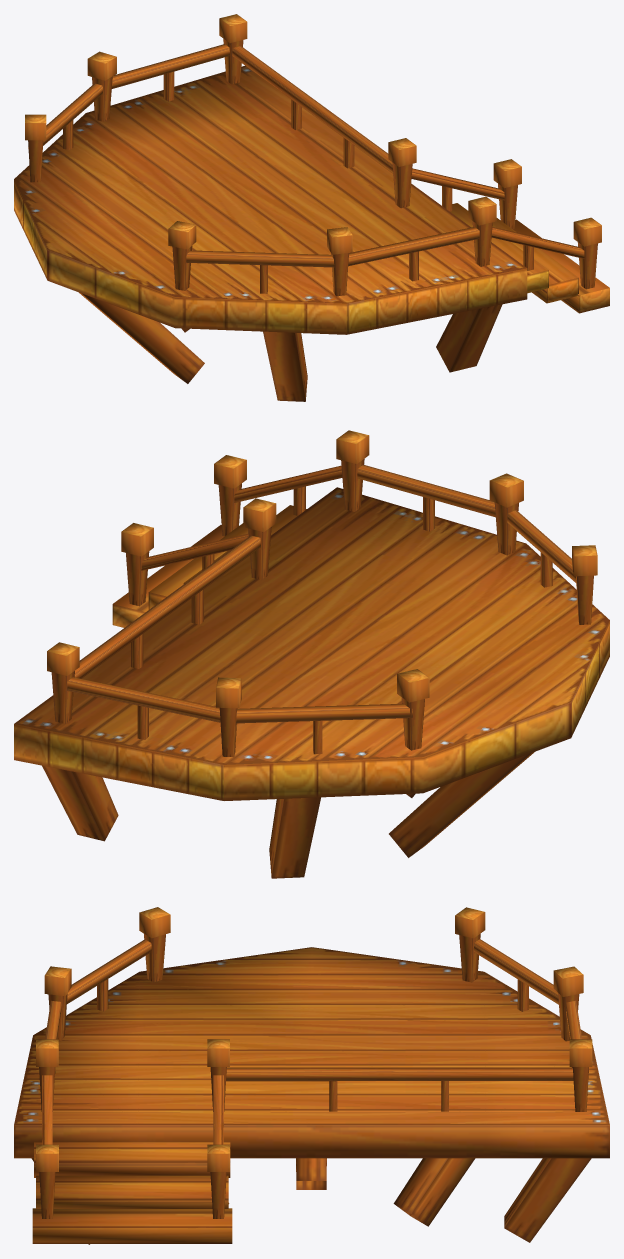
File: landingField1.fbx
3 views of the same model, one above another, from view 1: azimuth 30°, elevation 25°; view 2: azimuth 150°, elevation 25°; view 3: azimuth 270°, elevation 25° (orthographic). The views are drawn at different scales.
Visible parts, largest first — view 1: 2; view 2: 2; view 3: 2.
Boxes of the visible parts, x1,y1,x2,y2 form: 2: (14, 14, 609, 401); 2: (14, 430, 609, 878); 2: (14, 907, 609, 1244).
Bounding box in the file's own units: 1226 × 605 × 1368.
Materials: 1 (1 with a texture image).
